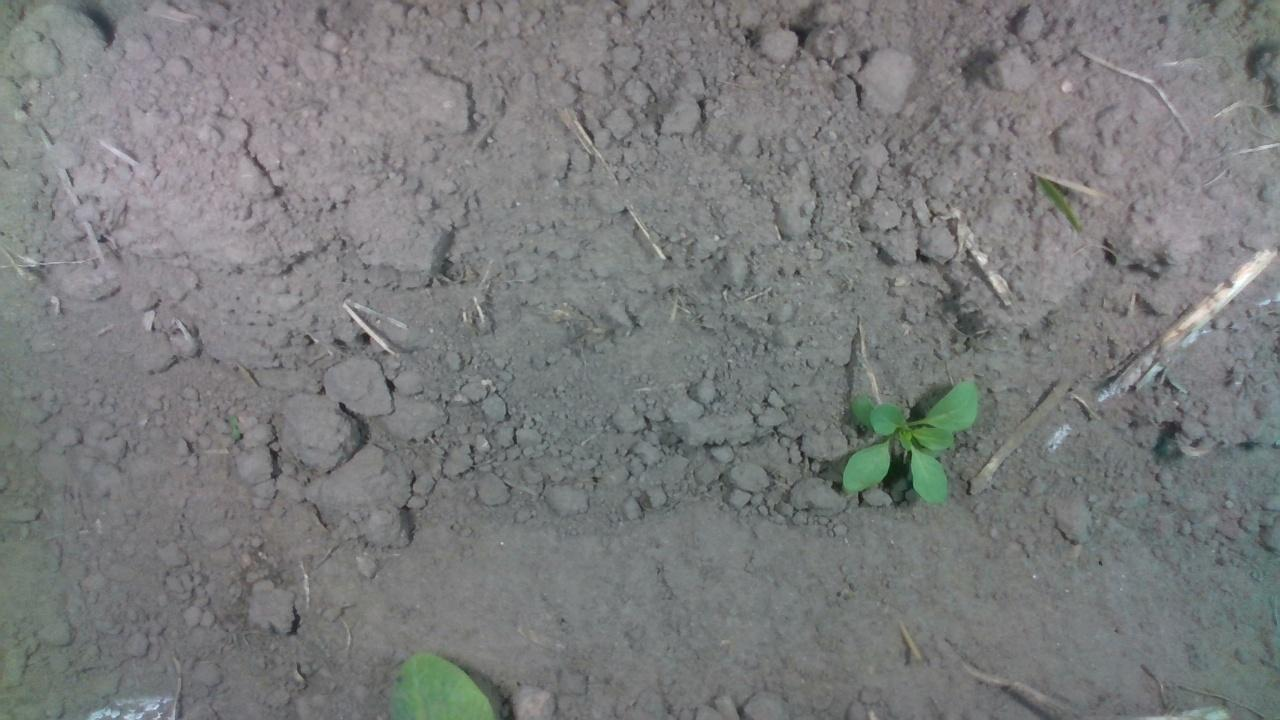weed: (224, 412, 240, 442)
